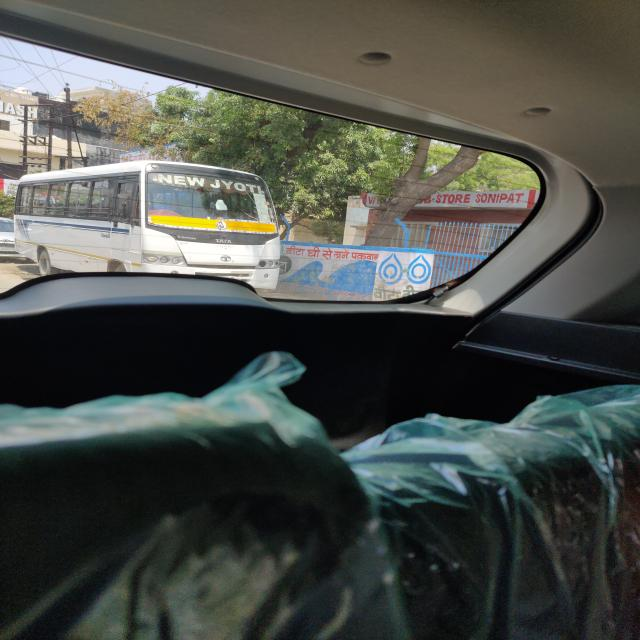Traveller: (13, 161, 280, 290)
Two Wheeler: (13, 161, 280, 290)
